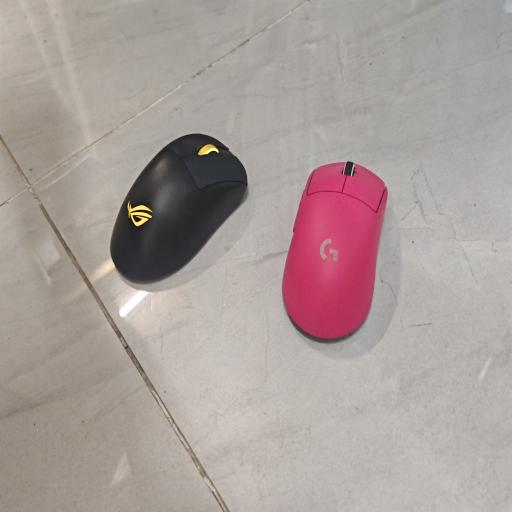mouse: (110, 134, 248, 283), (282, 162, 388, 338)
